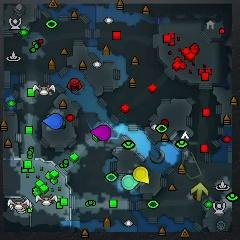p1: (42, 114, 63, 130)
p2: (122, 174, 140, 191)
p3: (91, 125, 111, 141)
p4: (133, 166, 150, 184)
x2: (191, 183, 208, 201)
